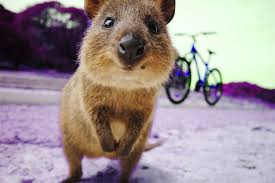quokka: (54, 0, 184, 177)
